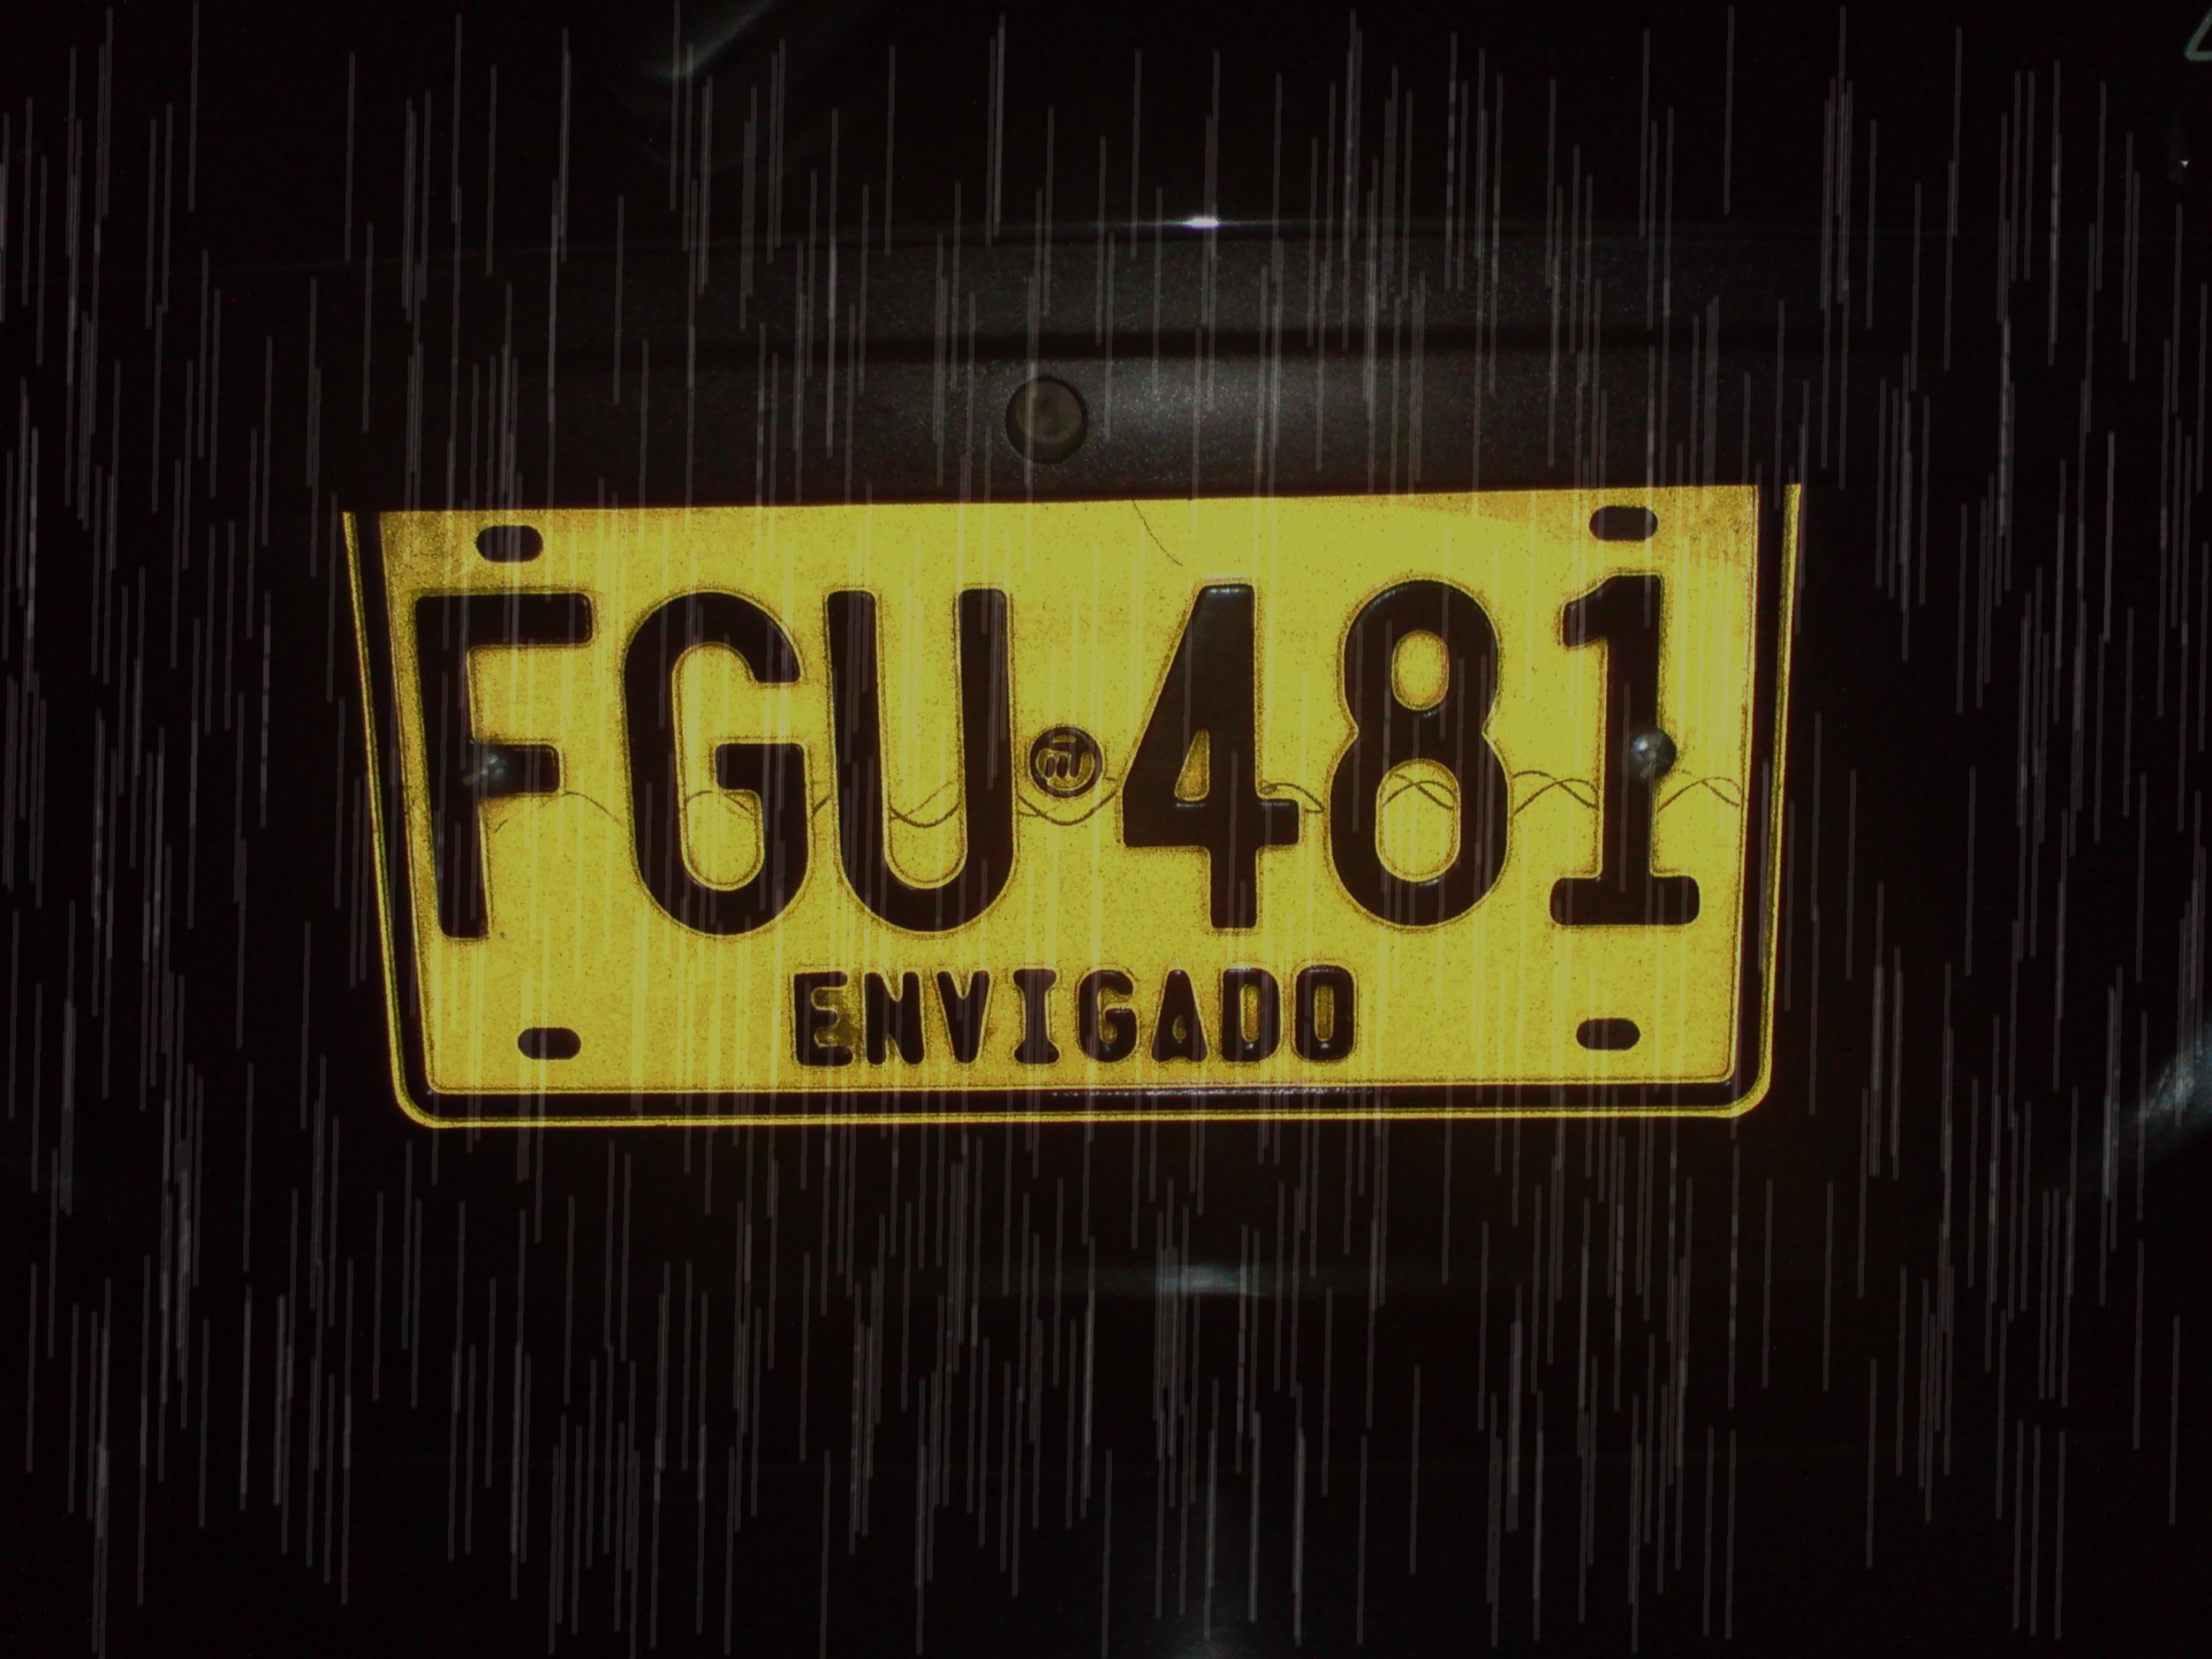placas: (332, 472, 1811, 1128)
